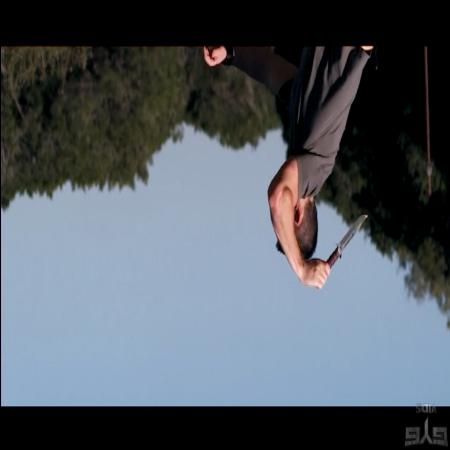long weapon: (314, 210, 372, 294)
